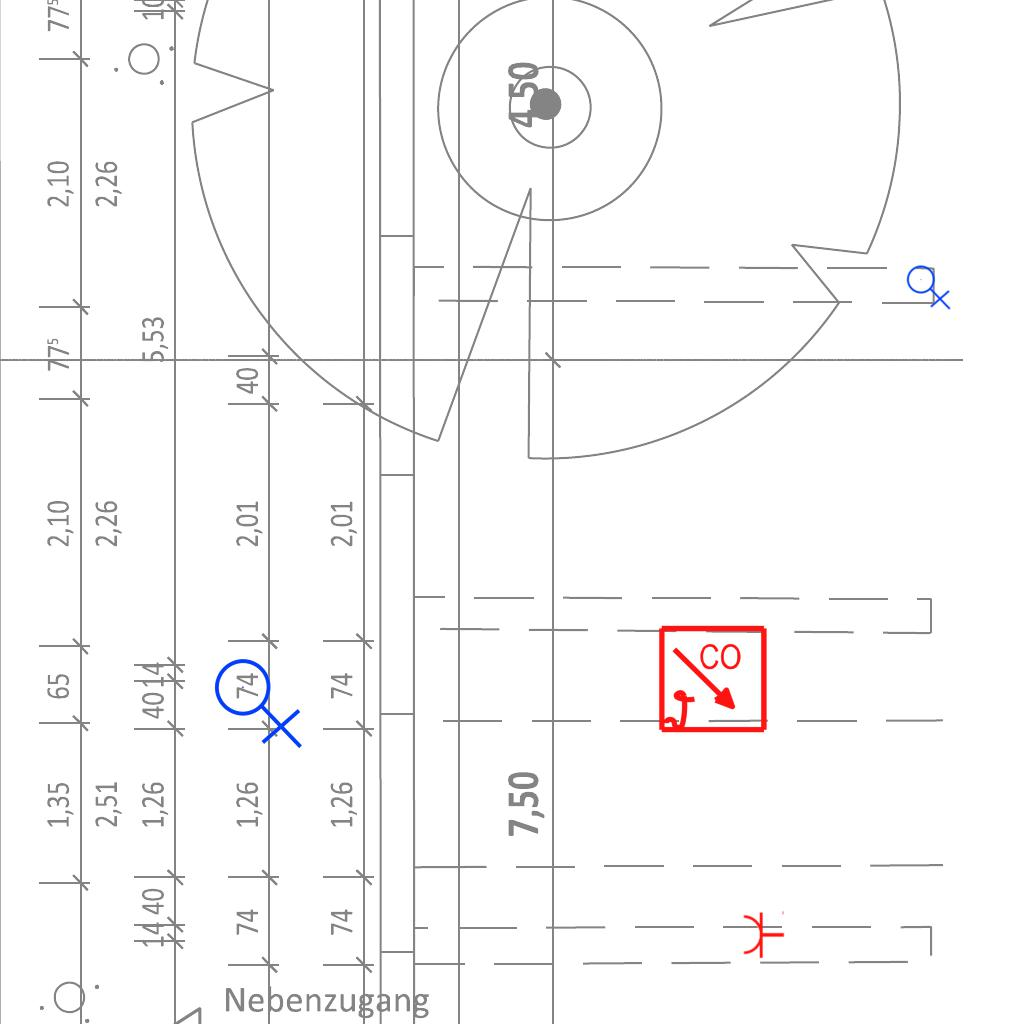Elektroanschluss_allgemein_230V_Geraeteanschlussdose_230V: (213, 650, 307, 749), (906, 261, 953, 310)
ROA_Rauchmelder_optisch_mit_Signalgeber_(Sockelsirene): (657, 624, 770, 737)
Schukosteckdose_einfach: (742, 909, 785, 959)
